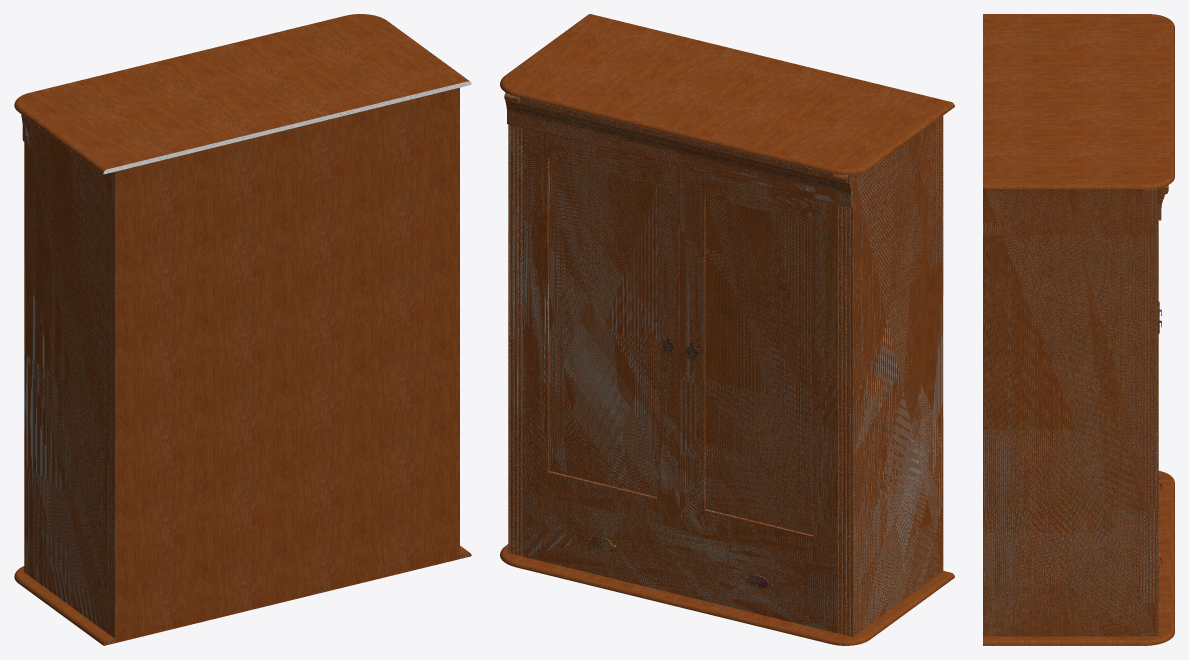
Rendered from Wardrobe.dae.
The picture shows the model from 3 angles, left to right: view 1: azimuth 30°, elevation 25°; view 2: azimuth 150°, elevation 25°; view 3: azimuth 270°, elevation 25°; orthographic projection. The views are drawn at different scales.
Visible parts, largest first — view 1: SketchUp (×5); view 2: SketchUp (×3); view 3: SketchUp (×3).
Part boxes in pixels (box(x1,y1,x2,y2)): SketchUp (×5): box(14, 14, 471, 644); SketchUp (×3): box(500, 14, 954, 645); SketchUp (×3): box(983, 14, 1174, 645).
Size of the model in its own units: 18.33 by 8.57 by 22.65.
